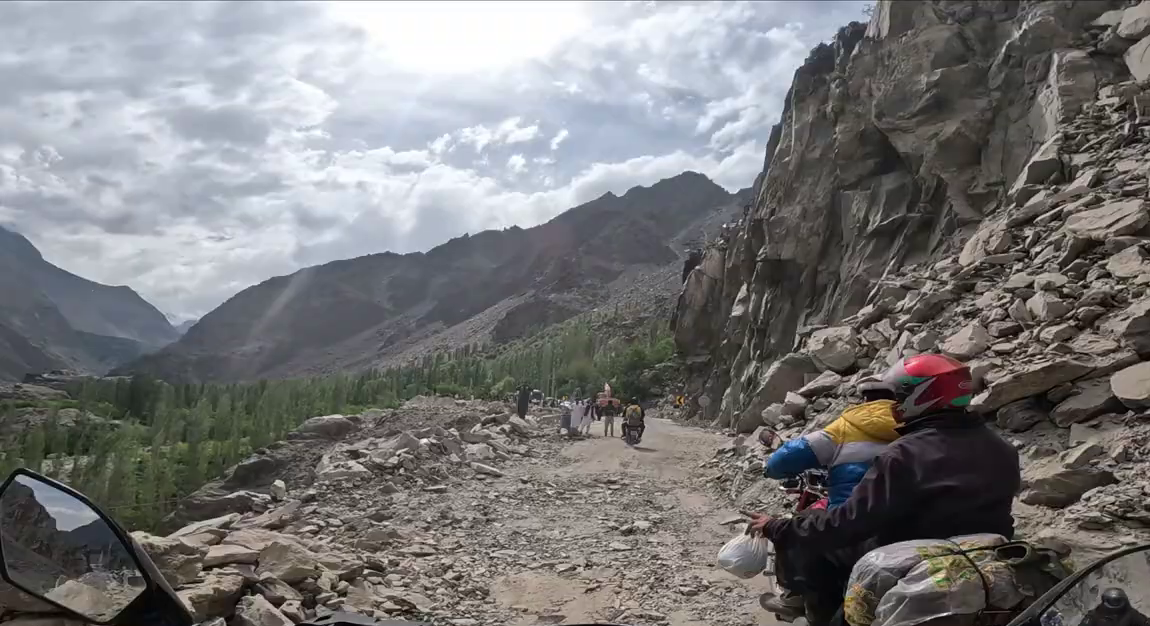unexpected: (235, 399, 713, 625)
